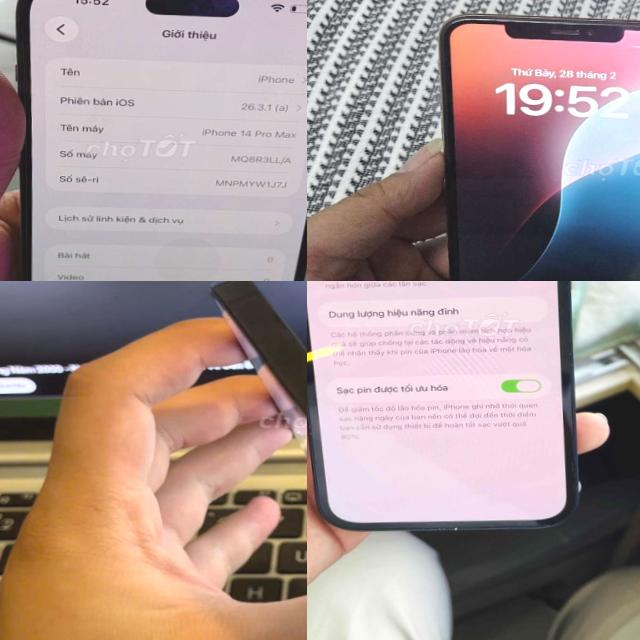gen_12_13: (307, 281, 598, 556)
gen_14: (3, 0, 307, 281), (212, 281, 307, 594)
gen_x_xs: (419, 3, 640, 281)
